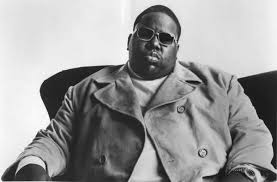black_male: (123, 15, 189, 81)
